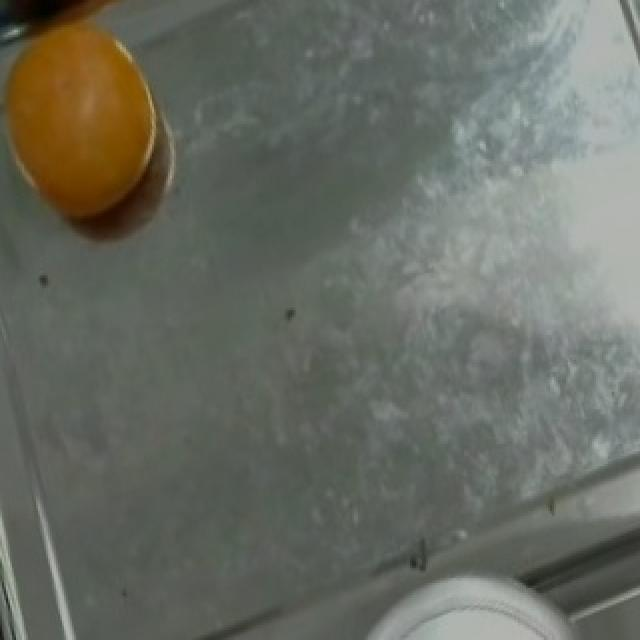Fruit: (2, 12, 184, 240), (382, 595, 592, 640)
